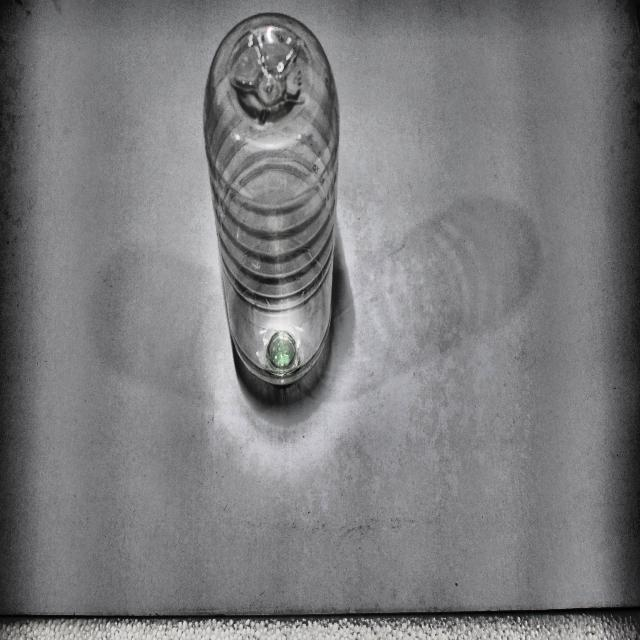plastic bottle: (204, 12, 339, 386)
